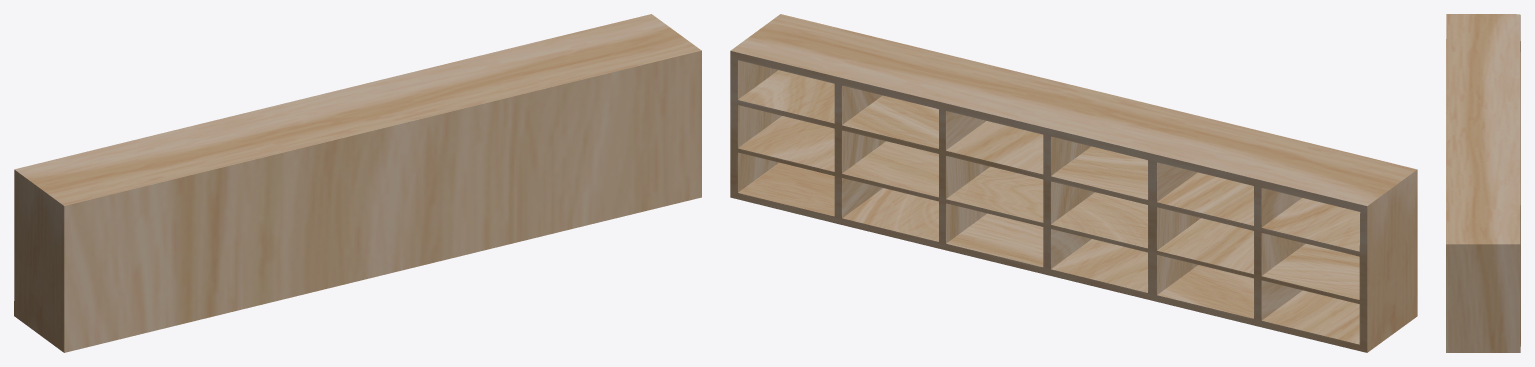
File: SCH0110009.fbx
3 renders of one model, left to right at view 1: azimuth 30°, elevation 25°; view 2: azimuth 150°, elevation 25°; view 3: azimuth 270°, elevation 25°, orthographic. The views are drawn at different scales.
Visible parts, largest first — view 1: smSCH0110009; view 2: smSCH0110009; view 3: smSCH0110009.
Part boxes in pixels (bbox=[...]): smSCH0110009: bbox=[14, 14, 701, 352]; smSCH0110009: bbox=[730, 14, 1417, 352]; smSCH0110009: bbox=[1446, 14, 1520, 352].
Size of the model in its own units: 662 by 146 by 90.83.
1 material, 1 textured.
